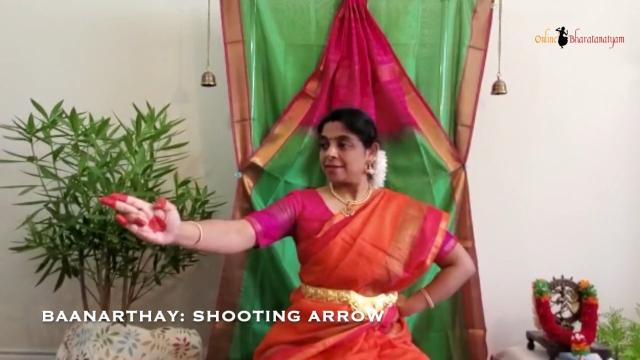tripataka: (82, 178, 198, 260)
